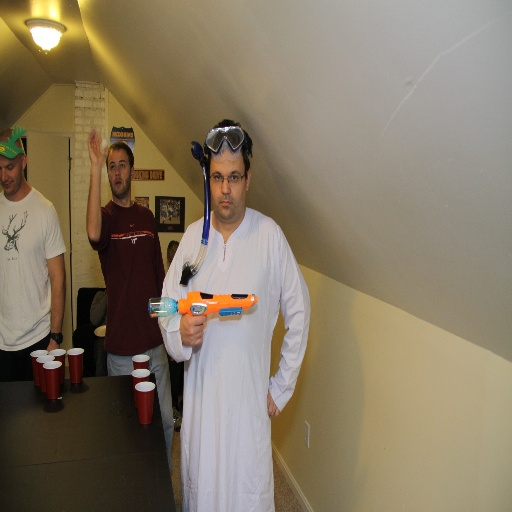hand: (179, 307, 206, 345), (86, 125, 109, 168), (266, 390, 280, 419), (45, 340, 62, 354)
